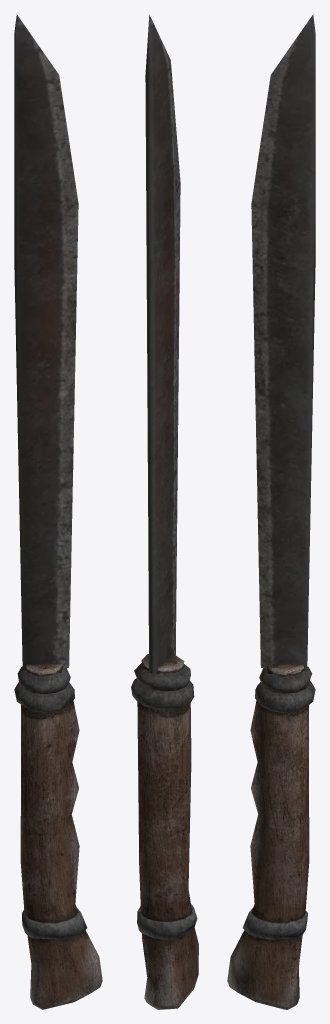
Rendered from machete.glb.
3 views of the same model, side by side, from view 1: azimuth 90°, elevation 25°; view 2: azimuth 150°, elevation 25°; view 3: azimuth 270°, elevation 25° (orthographic).
Parts seen in each view (by area): view 1: machete; view 2: machete; view 3: machete.
Part boxes in pixels (<box>): machete: <box>14,14,102,1009</box>; machete: <box>131,14,198,1009</box>; machete: <box>227,14,315,1009</box>.
Size of the model in its own units: 0.0444 by 0.7542 by 0.0609.
1 material, 1 textured.
